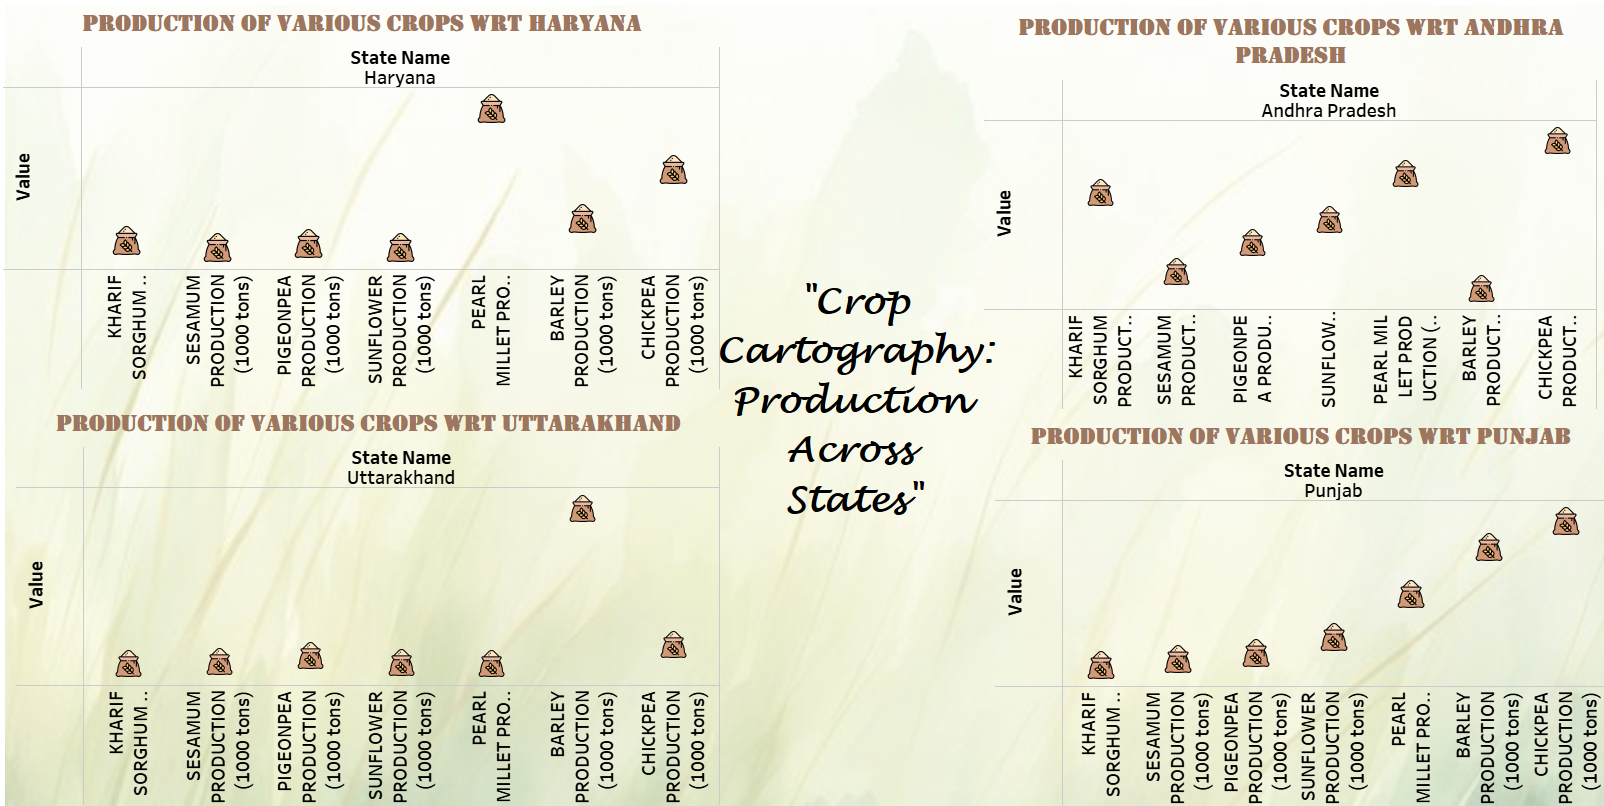

The page's visual inventory and layout, read from the dashboard file:
{"tool":"tableau","page":{"name":"9","canvas":[1000,1000],"units":"permille","ordinal":8},"visuals":[{"type":"worksheet","title":"Sheet 31","mark":"Shape","cols":["State Name"],"box":[1.8,3.7,447.1,480.2]},{"type":"worksheet","title":"Sheet 31 (4)","mark":"Shape","cols":["State Name"],"box":[613.6,8.7,382.2,500]},{"type":"worksheet","title":"Sheet 31 (3)","mark":"Shape","cols":["State Name"],"box":[10.2,500,438.7,500]},{"type":"worksheet","title":"Sheet 31 (2)","mark":"Shape","cols":["State Name"],"box":[620.2,516.1,381,485.1]}]}

Visuals, with their boxes on the dashboard's canvas, which has no fixed pixel size, in thousandths of its width and height (x1, y1, x2, y2). These are canvas units, not pixel positions in the 1604x806 screenshot, which may show the page scaled, cropped or inside an application window:
"Sheet 31" worksheet (Shape marks): 2:4:449:484
"Sheet 31 (4)" worksheet (Shape marks): 614:9:996:509
"Sheet 31 (3)" worksheet (Shape marks): 10:500:449:1000
"Sheet 31 (2)" worksheet (Shape marks): 620:516:1001:1001
